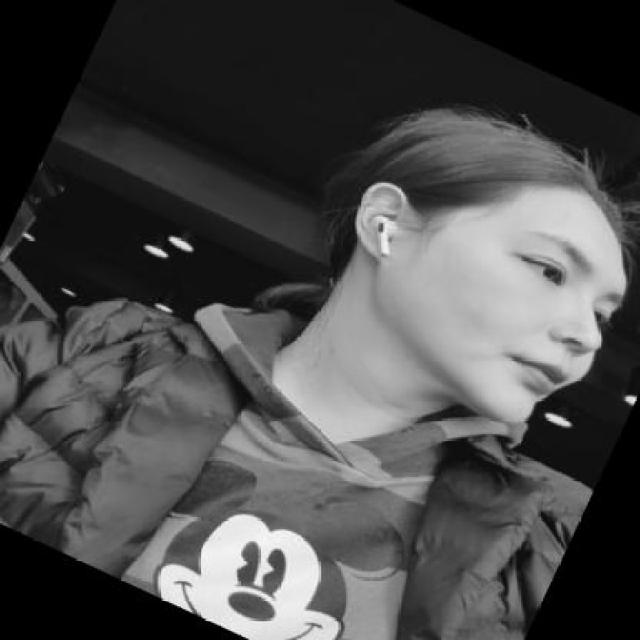earphone: (358, 198, 403, 265)
